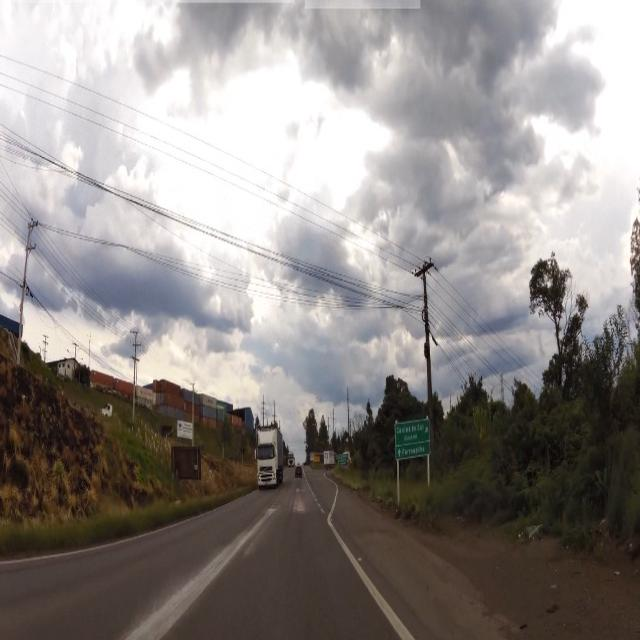I-4: (396, 418, 430, 457)
